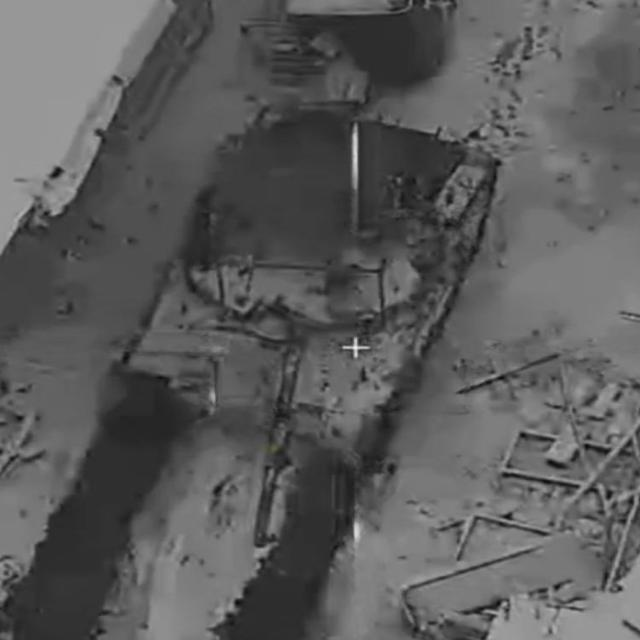MBT: (112, 110, 509, 545)
